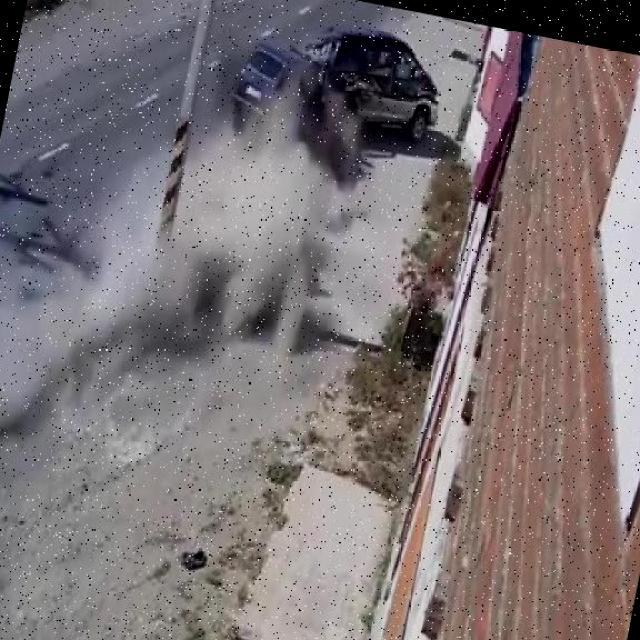accident: (258, 13, 408, 163)
